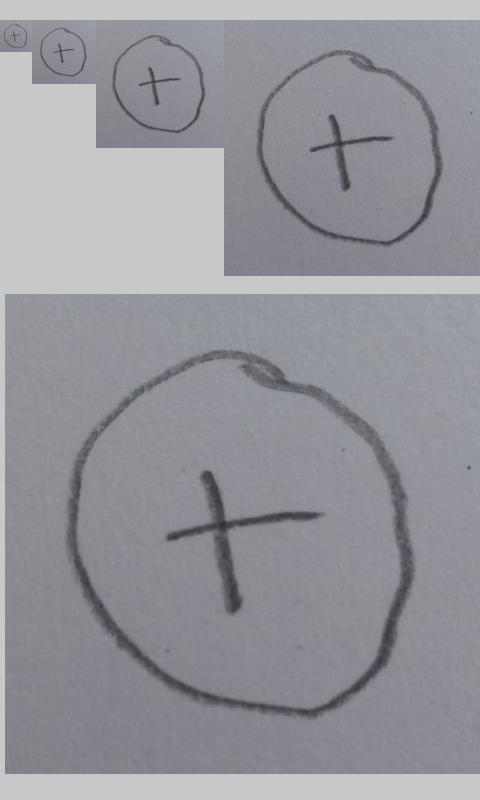button: (63, 346, 417, 722), (256, 50, 443, 248), (111, 34, 206, 134), (39, 27, 87, 77), (3, 23, 28, 49)
